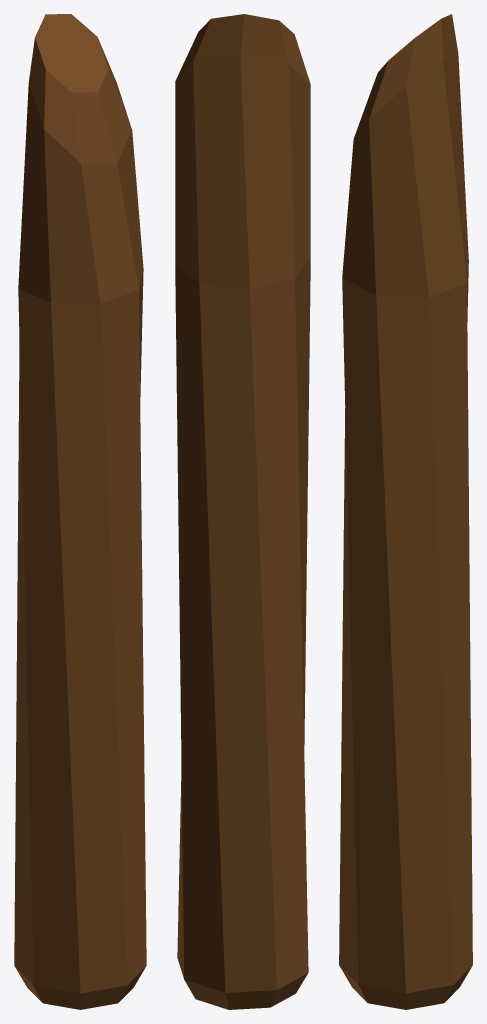
Rendered from E_B_FenceD.fbx.
3 views of the same model, side by side, from view 1: azimuth 90°, elevation 25°; view 2: azimuth 210°, elevation 25°; view 3: azimuth 270°, elevation 25° (orthographic). The views are drawn at different scales.
Visible parts, largest first — view 1: E_B_FenceD; view 2: E_B_FenceD; view 3: E_B_FenceD.
Boxes of the visible parts, x1,y1,x2,y2 form: E_B_FenceD: (14,14,146,1009); E_B_FenceD: (175,14,310,1009); E_B_FenceD: (339,14,472,1009).
Size of the model in its own units: 54.51 by 439 by 54.51.
